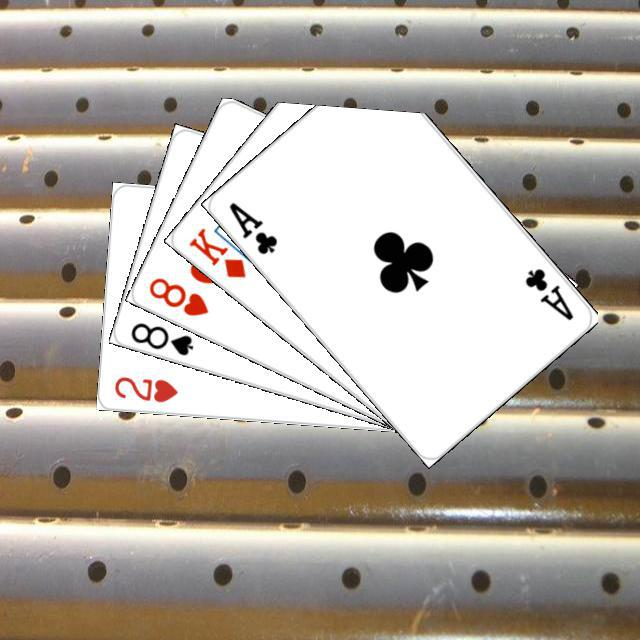2h: (109, 371, 179, 404)
8h: (143, 272, 210, 318)
8s: (125, 317, 195, 358)
Ac: (224, 197, 280, 257), (519, 263, 575, 323)
Kd: (183, 222, 248, 280)
